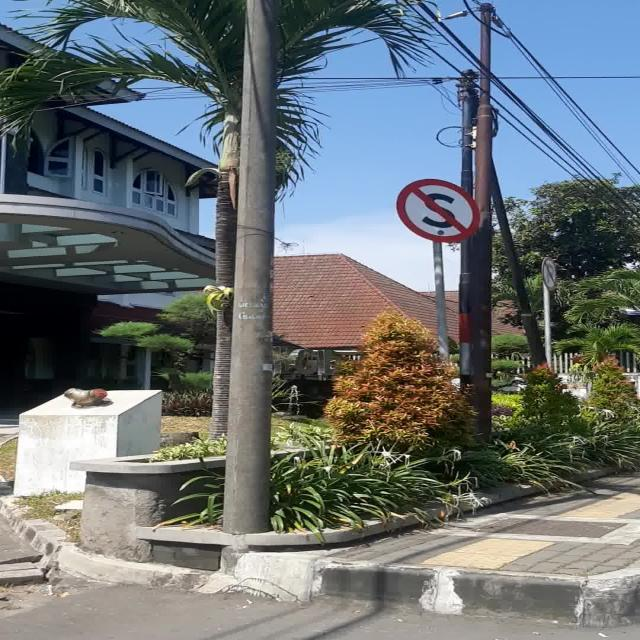Dilarang Berhenti: (397, 178, 480, 242)
